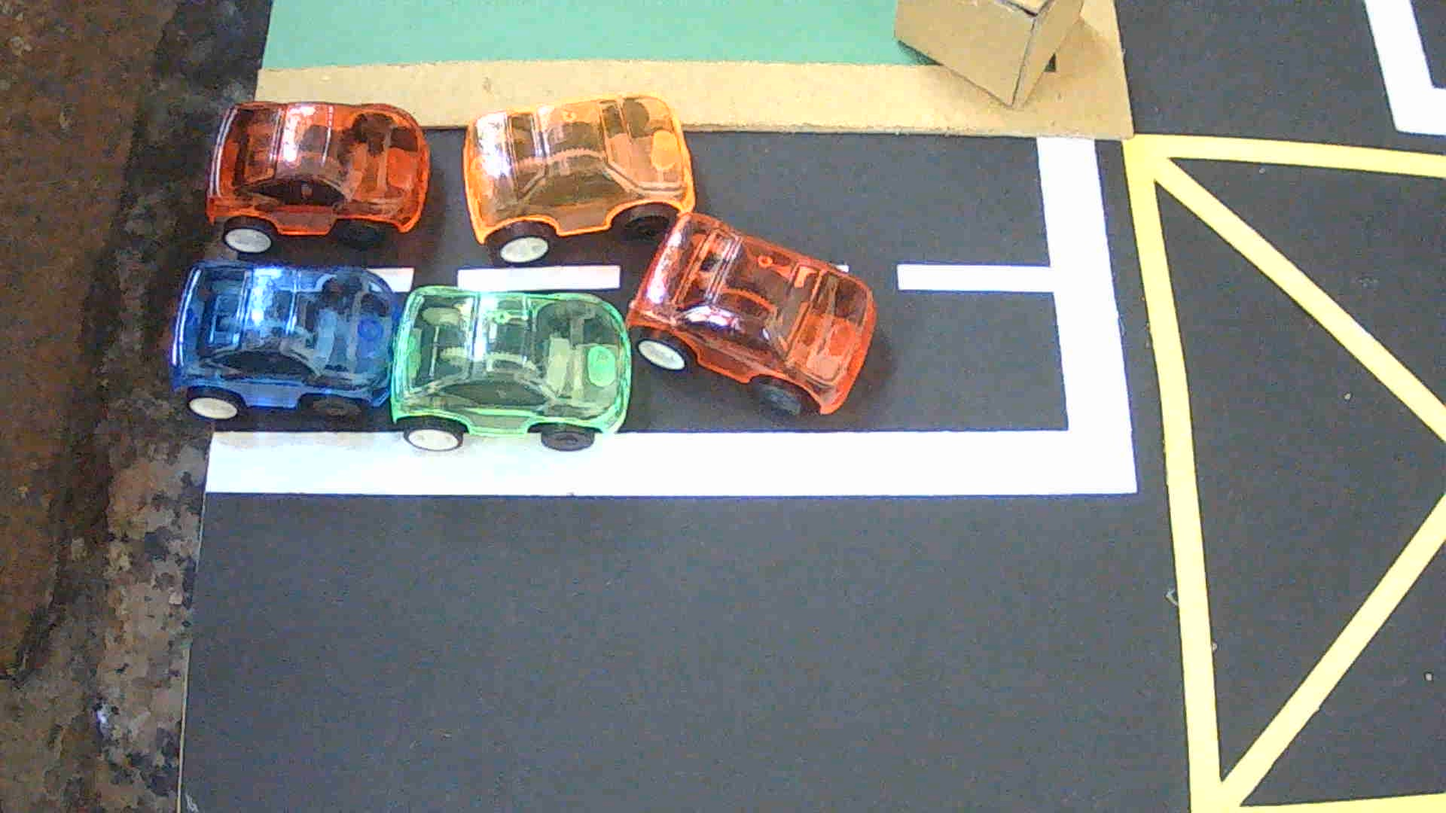Mobil biru: (169, 260, 398, 420)
Mobil hijau: (392, 286, 630, 450)
Mobil merah: (626, 214, 876, 416), (207, 102, 429, 253)
Mobil orange: (463, 94, 693, 264)
